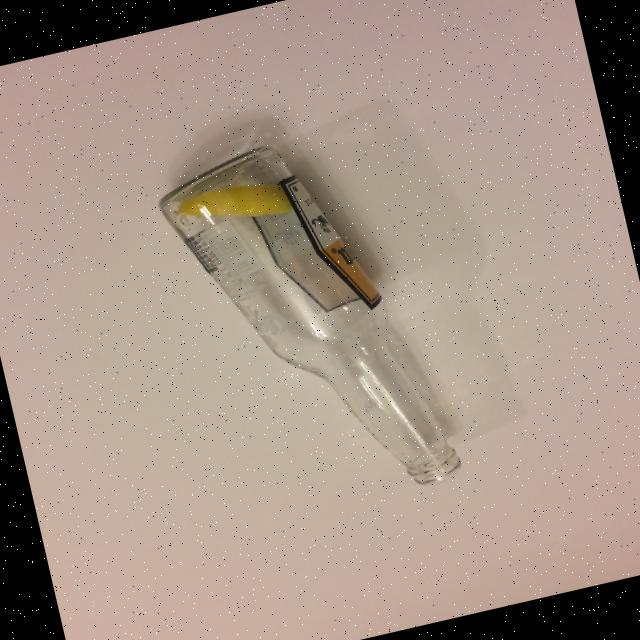glass: (149, 115, 467, 530)
